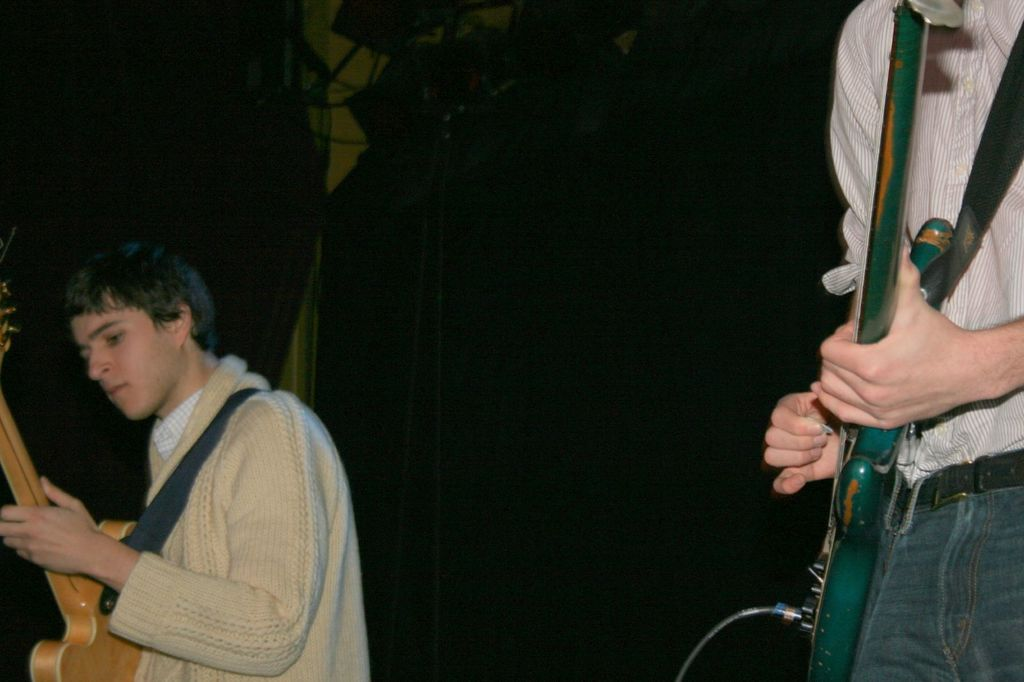Human_hand: (806, 242, 982, 434), (778, 385, 875, 508), (0, 475, 107, 581)
